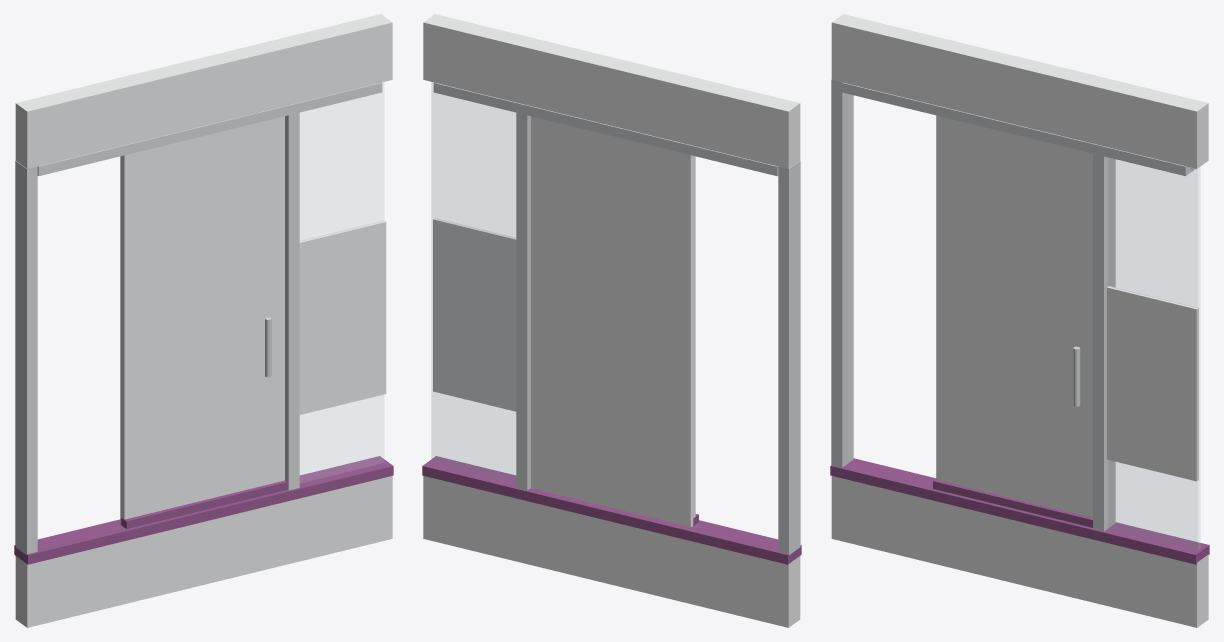
The model's file is pharmacy-and-high-street-chemist-consultation-room-fro-4c099105__37525.glb.
3 renders of one model, left to right at view 1: azimuth 30°, elevation 25°; view 2: azimuth 150°, elevation 25°; view 3: azimuth 330°, elevation 25°, orthographic.
Visible parts, largest first — view 1: consultation-room-front, door-consult/white, door-consult/plum; view 2: consultation-room-front, door-consult/white; view 3: consultation-room-front, door-consult/white, door-consult/plum.
Part boxes in pixels (bbox=[...]): consultation-room-front: bbox=[14, 14, 393, 627]; door-consult/white: bbox=[120, 116, 284, 524]; door-consult/plum: bbox=[121, 480, 287, 528]; consultation-room-front: bbox=[422, 14, 801, 627]; door-consult/white: bbox=[531, 116, 695, 526]; consultation-room-front: bbox=[830, 14, 1209, 627]; door-consult/white: bbox=[936, 115, 1092, 517]; door-consult/plum: bbox=[933, 479, 1092, 527].
Size of the model in its own units: 2 by 2.7 by 0.1299.
